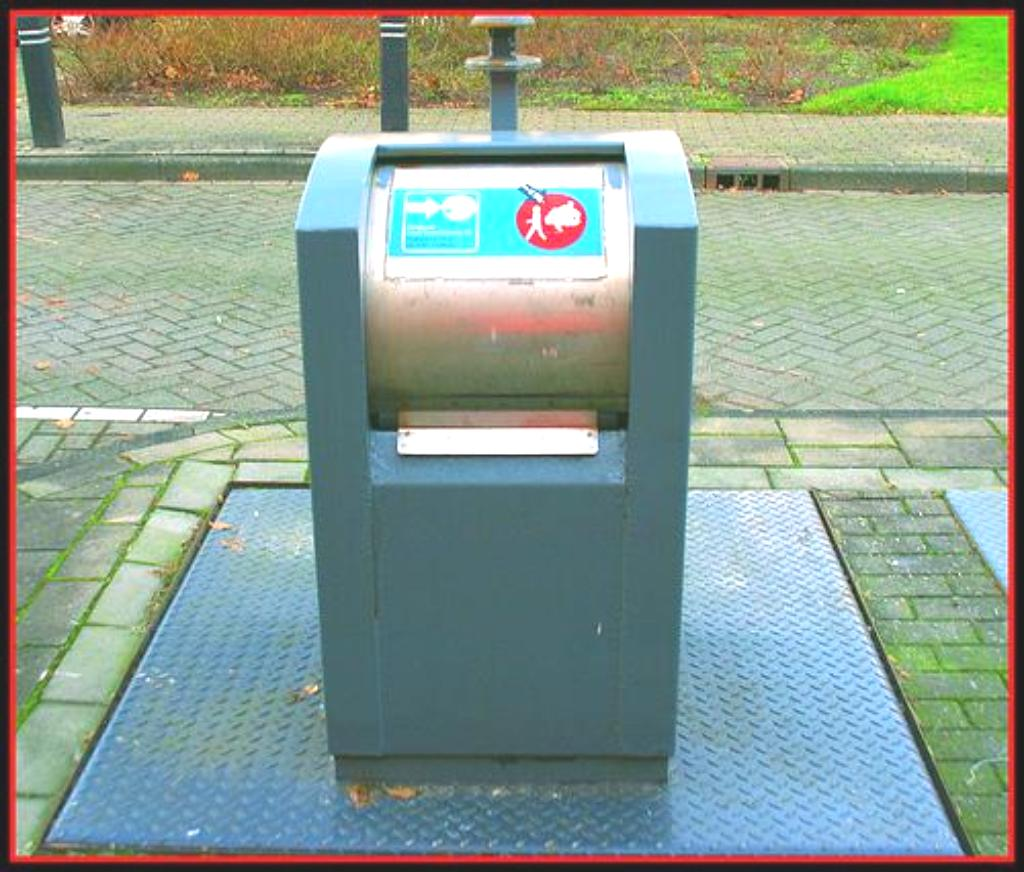dustbin: (292, 124, 708, 816)
